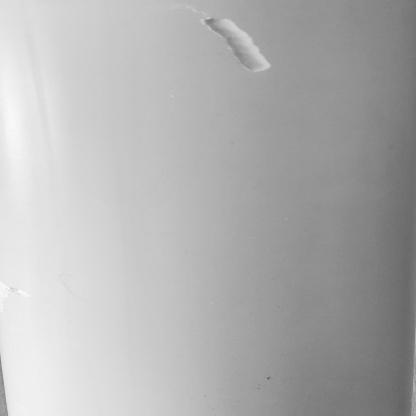sunshang: (199, 15, 270, 71), (1, 281, 25, 309)
